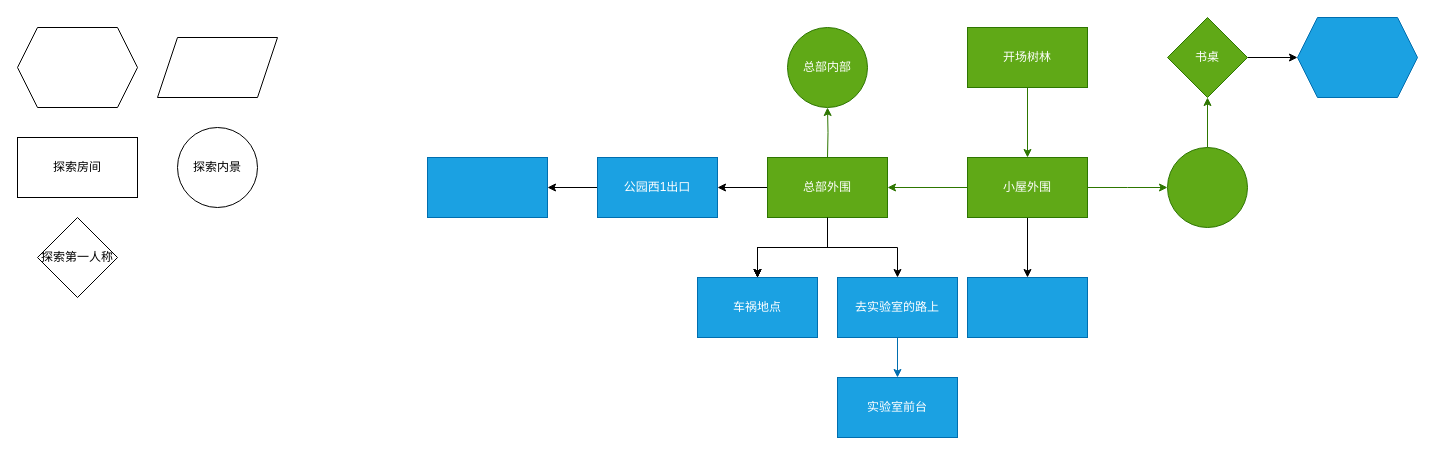
Image size: 1435x455. Some labels were removed from this diagram. Each missing label, with the box of its shape:
小屋内部: (1166, 146, 1248, 228)
小屋电脑: (1296, 16, 1418, 98)
开车逃生场景: (966, 276, 1088, 338)
突围场景: (426, 156, 548, 218)
规则房间: (156, 36, 278, 98)
视角房间: (16, 26, 138, 108)
